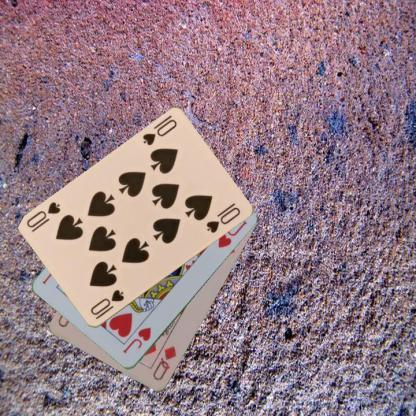10s: (88, 287, 126, 321), (139, 116, 179, 147)
Jh: (120, 324, 152, 356)
Qd: (150, 343, 178, 382)
